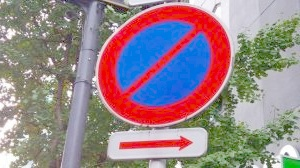Prohibition_sign: (85, 4, 235, 130)
